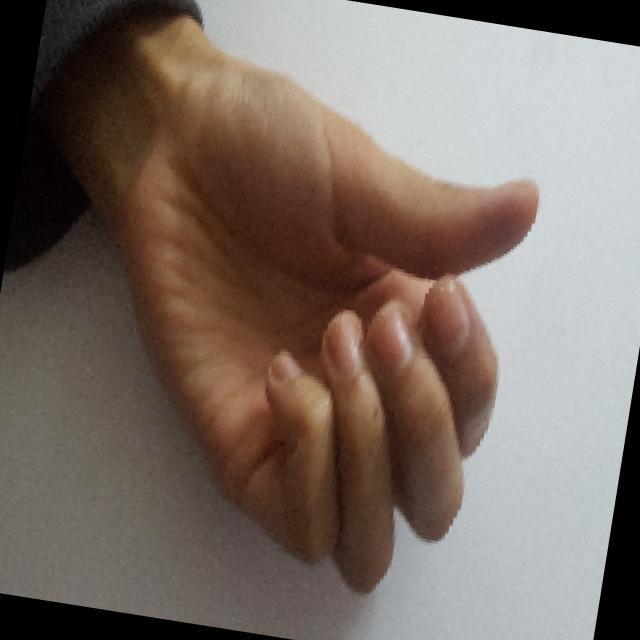Nail: (423, 279, 470, 347), (369, 304, 413, 367), (331, 310, 364, 372), (272, 354, 300, 381)
